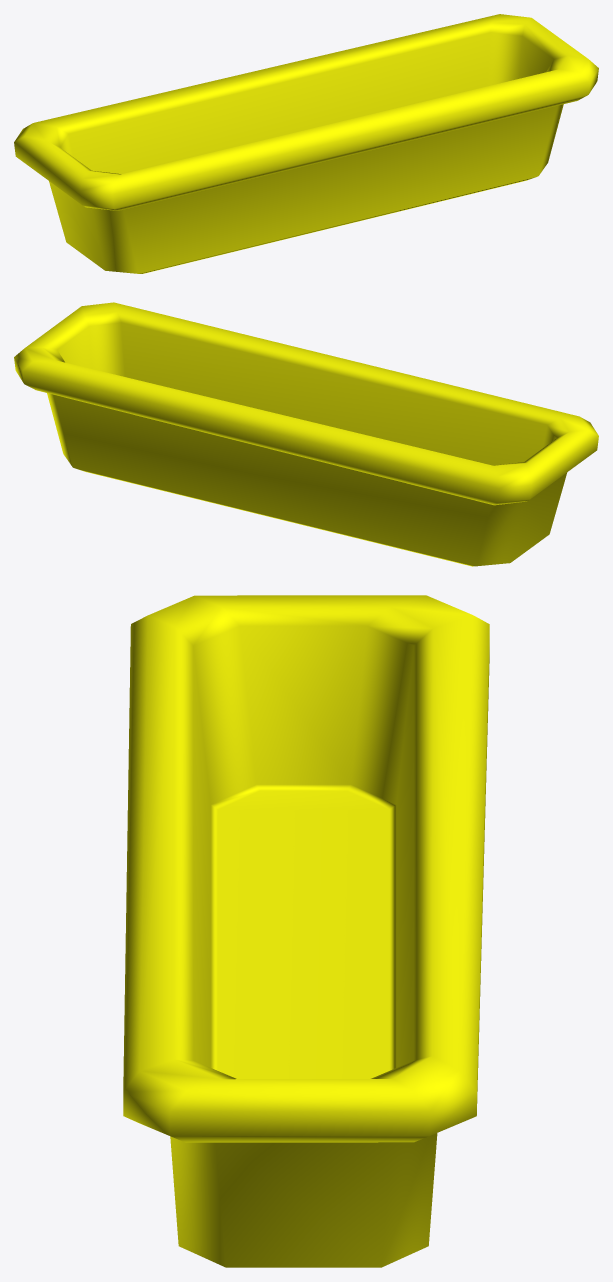
The model's file is Feeder_1.fbx.
3 views of the same model, one above another, from view 1: azimuth 30°, elevation 25°; view 2: azimuth 150°, elevation 25°; view 3: azimuth 270°, elevation 25° (orthographic). The views are drawn at different scales.
Parts seen in each view (by area): view 1: Feeder_1; view 2: Feeder_1; view 3: Feeder_1.
Boxes of the visible parts, <box> form: Feeder_1: <box>14,14,598,273</box>; Feeder_1: <box>14,302,598,566</box>; Feeder_1: <box>123,595,489,1267</box>.
Size of the model in its own units: 135 by 27.53 by 41.63.
